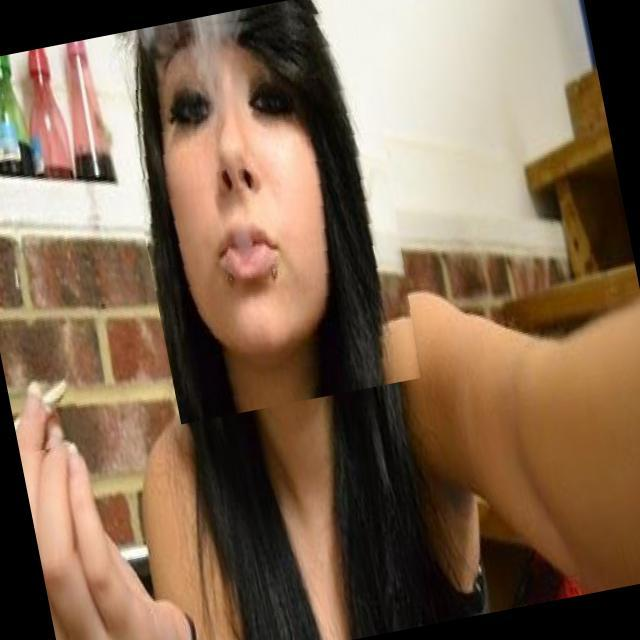cigarette: (6, 368, 86, 456)
